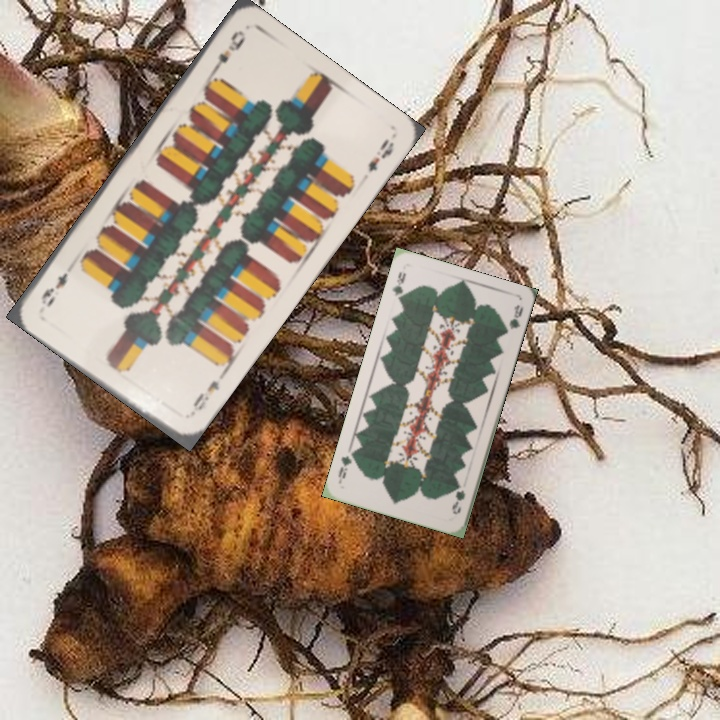E9: (206, 26, 249, 77), (189, 376, 223, 414)
G9: (448, 479, 468, 517), (388, 268, 408, 306)
